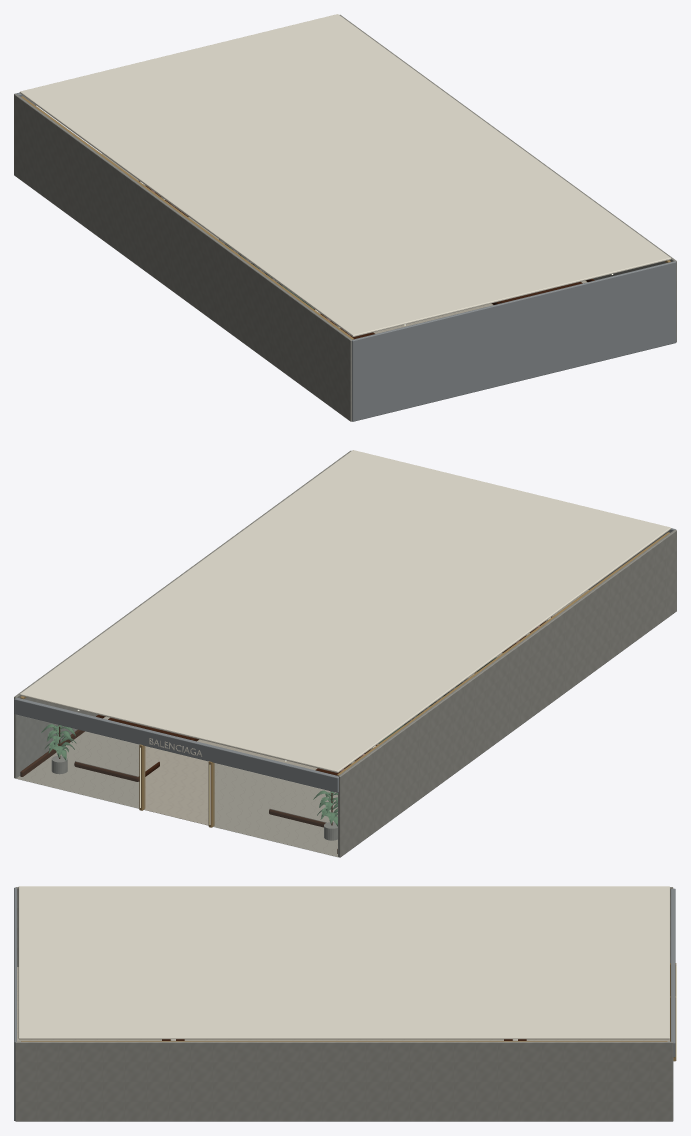
The model's file is balenciaga.glb.
The picture shows the model from 3 angles, top to bottom: view 1: azimuth 30°, elevation 25°; view 2: azimuth 150°, elevation 25°; view 3: azimuth 270°, elevation 25°; orthographic projection. The views are drawn at different scales.
Parts seen in each view (by area): view 1: Acoustic ceiling field.002, Batched AUR-L2-BALENCIAGA::Travertine, Batched AUR-L2-BALENCIAGA::Tenant balenciaga, Batched AUR-L2-BALENCIAGA::Bronze; view 2: Acoustic ceiling field.002, Batched AUR-L2-BALENCIAGA::Travertine, Batched AUR-L2-BALENCIAGA::Cream marble, Batched AUR-L2-BALENCIAGA::Tenant glass, Batched AUR-L2-BALENCIAGA::Tenant balenciaga, Batched AUR-L2-BALENCIAGA::Bronze, Batched AUR-L2-BALENCIAGA::Walnut, Batched AUR-L2-BALENCIAGA::Foliage; view 3: Acoustic ceiling field.002, Batched AUR-L2-BALENCIAGA::Travertine, Batched AUR-L2-BALENCIAGA::Tenant balenciaga, Batched AUR-L2-BALENCIAGA::Cream marble, Batched AUR-L2-BALENCIAGA::Bronze.
Part boxes in pixels (box(x1,y1,x2,y2)): Acoustic ceiling field.002: box(19, 14, 671, 336); Batched AUR-L2-BALENCIAGA::Travertine: box(14, 14, 676, 421); Batched AUR-L2-BALENCIAGA::Tenant balenciaga: box(14, 92, 676, 421); Batched AUR-L2-BALENCIAGA::Bronze: box(21, 96, 670, 339); Acoustic ceiling field.002: box(19, 450, 671, 772); Batched AUR-L2-BALENCIAGA::Travertine: box(14, 450, 676, 857); Batched AUR-L2-BALENCIAGA::Cream marble: box(15, 590, 588, 857); Batched AUR-L2-BALENCIAGA::Tenant glass: box(15, 715, 338, 857); Batched AUR-L2-BALENCIAGA::Tenant balenciaga: box(14, 528, 676, 792); Batched AUR-L2-BALENCIAGA::Bronze: box(20, 532, 669, 827); Batched AUR-L2-BALENCIAGA::Walnut: box(20, 616, 552, 853); Batched AUR-L2-BALENCIAGA::Foliage: box(41, 724, 337, 826); Acoustic ceiling field.002: box(18, 886, 669, 1039); Batched AUR-L2-BALENCIAGA::Travertine: box(15, 887, 673, 1121); Batched AUR-L2-BALENCIAGA::Tenant balenciaga: box(14, 887, 675, 1120); Batched AUR-L2-BALENCIAGA::Cream marble: box(17, 967, 669, 1041); Batched AUR-L2-BALENCIAGA::Bronze: box(21, 963, 676, 1061).
Size of the model in its own units: 20.16 by 4.97 by 36.29.
17 materials, 4 textured.
